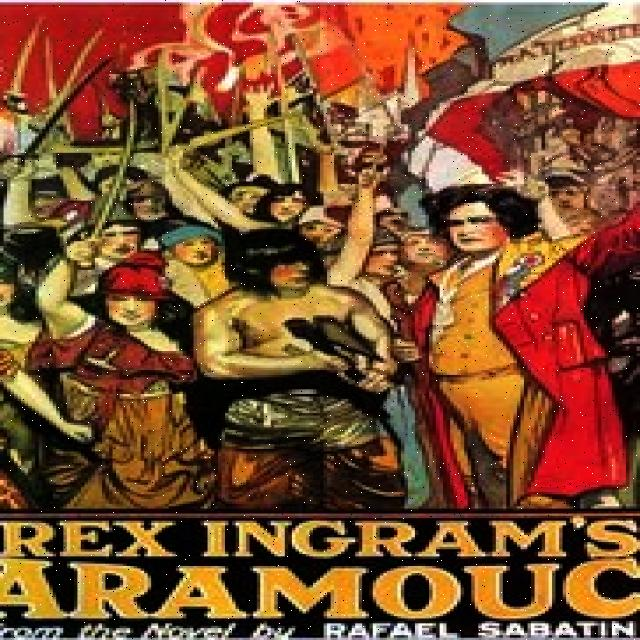movie-judul: (0, 523, 640, 640)
picture: (3, 36, 640, 501)
